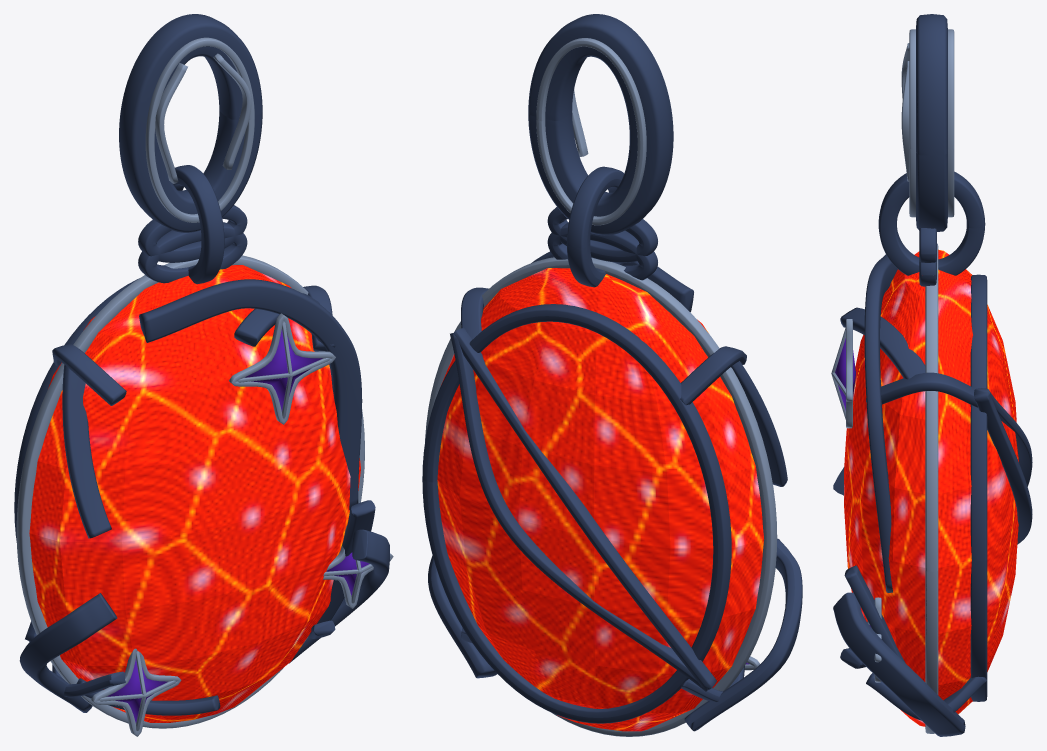
The model's file is starweave_charm.glb.
The picture shows the model from 3 angles, left to right: view 1: azimuth 30°, elevation 25°; view 2: azimuth 150°, elevation 25°; view 3: azimuth 270°, elevation 25°; orthographic projection.
Visible parts, largest first — view 1: Prismatic molten fire opal, Polished blue-black meteoric silver, Bright cold silver chased edges, Violet inset star enamel; view 2: Prismatic molten fire opal, Polished blue-black meteoric silver, Bright cold silver chased edges; view 3: Prismatic molten fire opal, Polished blue-black meteoric silver, Bright cold silver chased edges, Violet inset star enamel.
Boxes of the visible parts, <box> form: Prismatic molten fire opal: <box>29,265,360,722</box>; Polished blue-black meteoric silver: <box>14,14,389,715</box>; Bright cold silver chased edges: <box>16,37,393,736</box>; Violet inset star enamel: <box>106,329,369,722</box>; Prismatic molten fire opal: <box>437,268,764,731</box>; Polished blue-black meteoric silver: <box>422,14,802,731</box>; Bright cold silver chased edges: <box>425,38,777,736</box>; Prismatic molten fire opal: <box>844,249,1018,726</box>; Polished blue-black meteoric silver: <box>833,14,1032,736</box>; Bright cold silver chased edges: <box>831,29,954,733</box>; Violet inset star enamel: <box>835,338,870,626</box>.
Bounding box in the file's own units: 0.0212 × 0.0403 × 0.0105.
4 materials, 1 textured.
